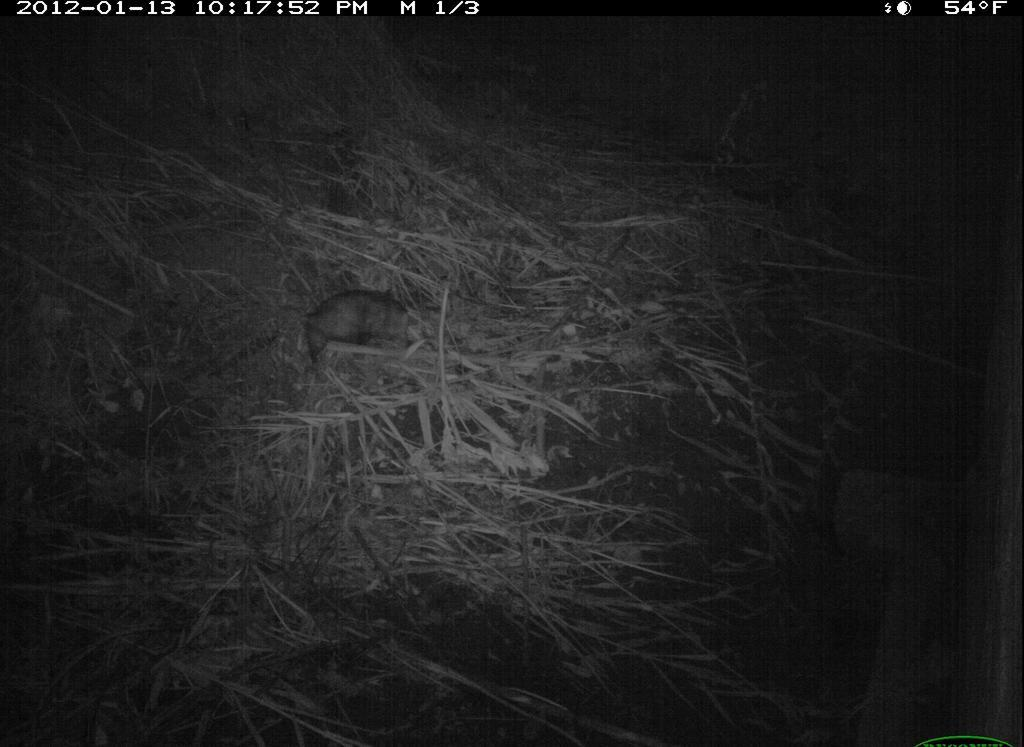opossum: (292, 284, 426, 375)
